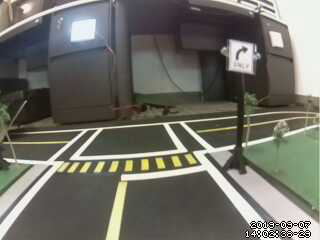Right_only_sign: (223, 36, 263, 81)
